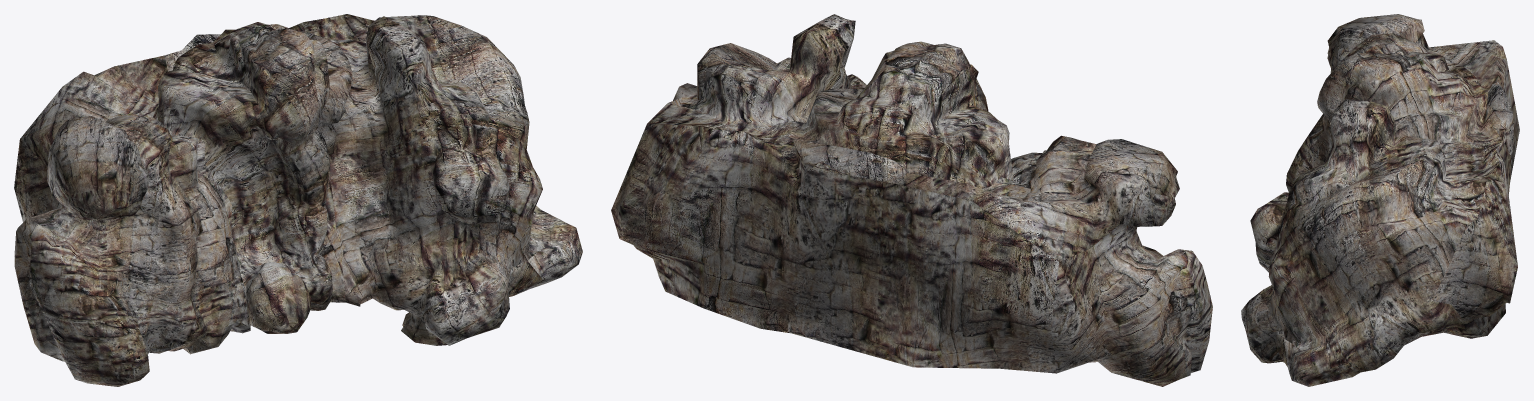
The model's file is Generic Cliff_D.FBX.
3 renders of one model, left to right at view 1: azimuth 30°, elevation 25°; view 2: azimuth 150°, elevation 25°; view 3: azimuth 270°, elevation 25°, orthographic. The views are drawn at different scales.
Parts seen in each view (by area): view 1: Object001; view 2: Object001; view 3: Object001.
Boxes of the visible parts, box(x1,y1,x2,y2) form: Object001: box(14, 14, 582, 386); Object001: box(611, 14, 1212, 386); Object001: box(1241, 14, 1519, 386).
Bounding box in the file's own units: 194 × 105 × 109.
1 material, 1 textured.
